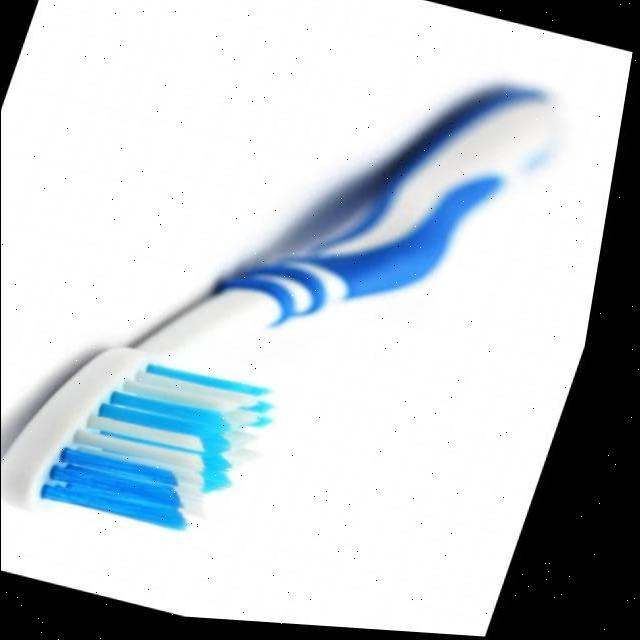toothbrush: (11, 90, 570, 530)
